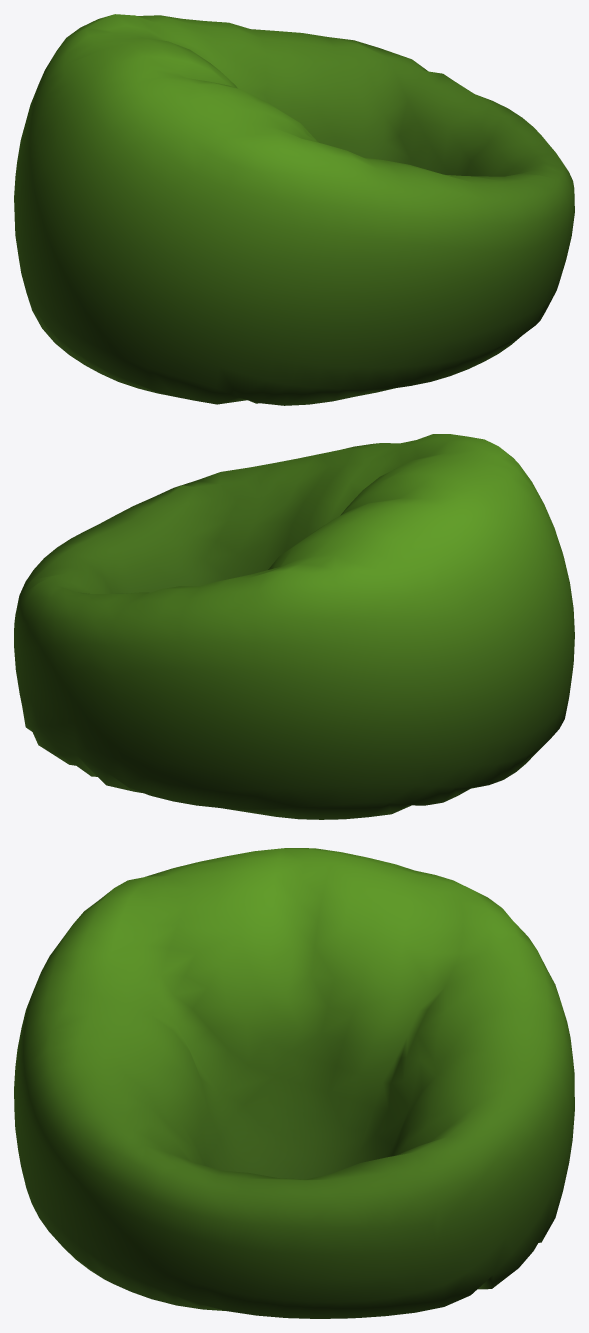
Rendered from SM_puf3.fbx.
3 views of the same model, one above another, from view 1: azimuth 30°, elevation 25°; view 2: azimuth 150°, elevation 25°; view 3: azimuth 270°, elevation 25° (orthographic). The views are drawn at different scales.
Visible parts, largest first — view 1: bean bag low poly.002; view 2: bean bag low poly.002; view 3: bean bag low poly.002.
Part boxes in pixels (<box>): bean bag low poly.002: <box>14,14,574,405</box>; bean bag low poly.002: <box>14,434,574,819</box>; bean bag low poly.002: <box>14,848,574,1318</box>.
Size of the model in its own units: 192 by 99.62 by 181.
